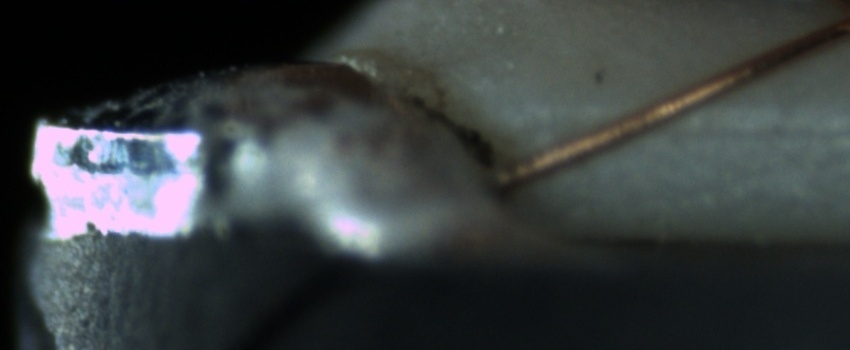DL: (550, 91, 850, 159)
